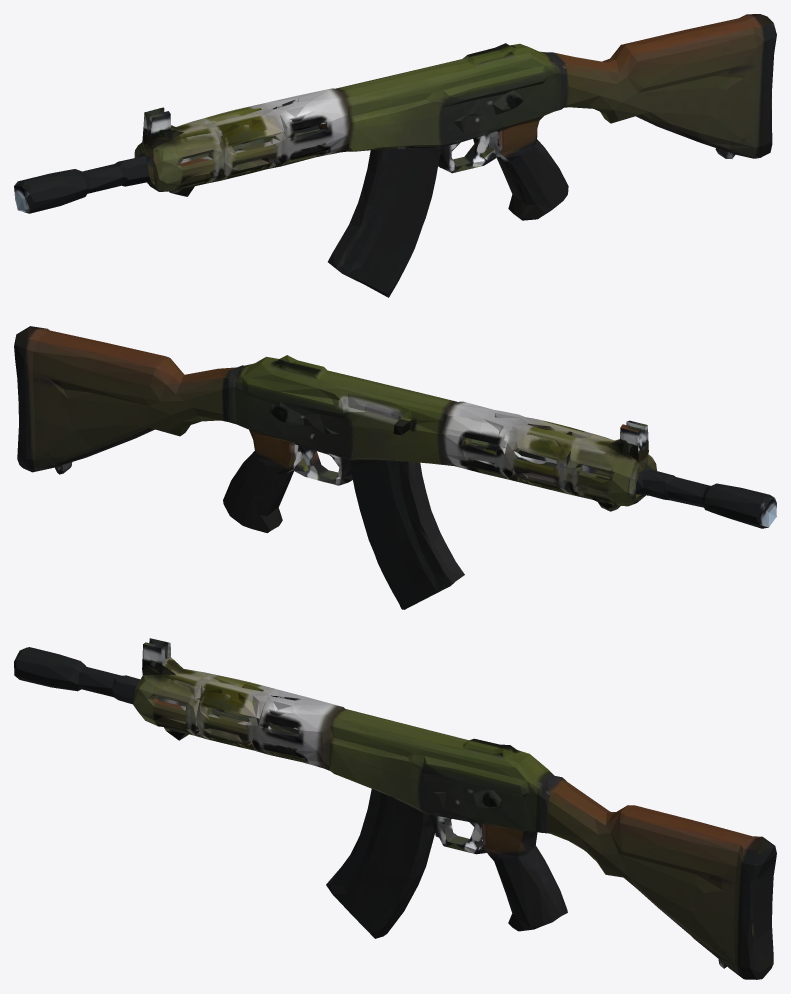
Rendered from rifle.glb.
The picture shows the model from 3 angles, top to bottom: view 1: azimuth 30°, elevation 25°; view 2: azimuth 150°, elevation 25°; view 3: azimuth 330°, elevation 25°; orthographic projection.
Visible parts, largest first — view 1: rifle; view 2: rifle; view 3: rifle.
Part boxes in pixels (x1,y1,x2,y2): rifle: (14,14,776,297); rifle: (14,326,776,609); rifle: (14,638,776,979).
Bounding box in the file's own units: 1.25 × 0.3776 × 0.0972.
Materials: 1 (1 with a texture image).
